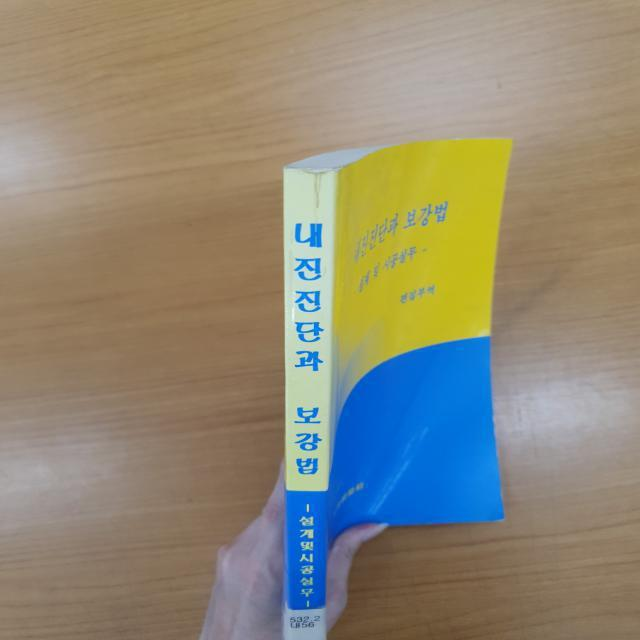Wornout: (300, 163, 346, 211)
